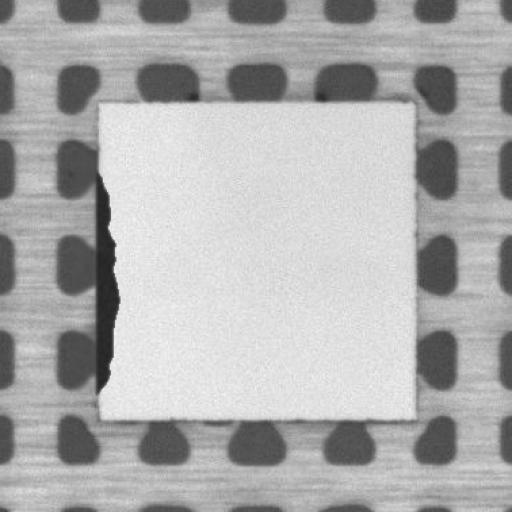DIE_BROKEN: (90, 169, 120, 394)
